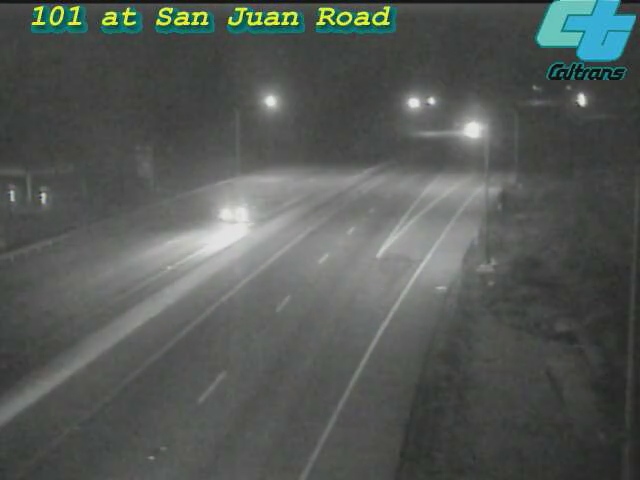vehicle: (191, 174, 271, 254), (450, 104, 500, 154)
